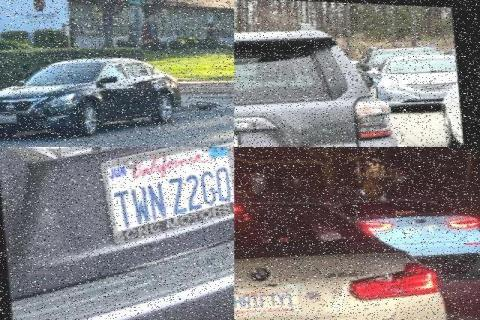LicensePlate: (102, 146, 233, 241), (233, 282, 304, 314), (2, 112, 20, 121)
